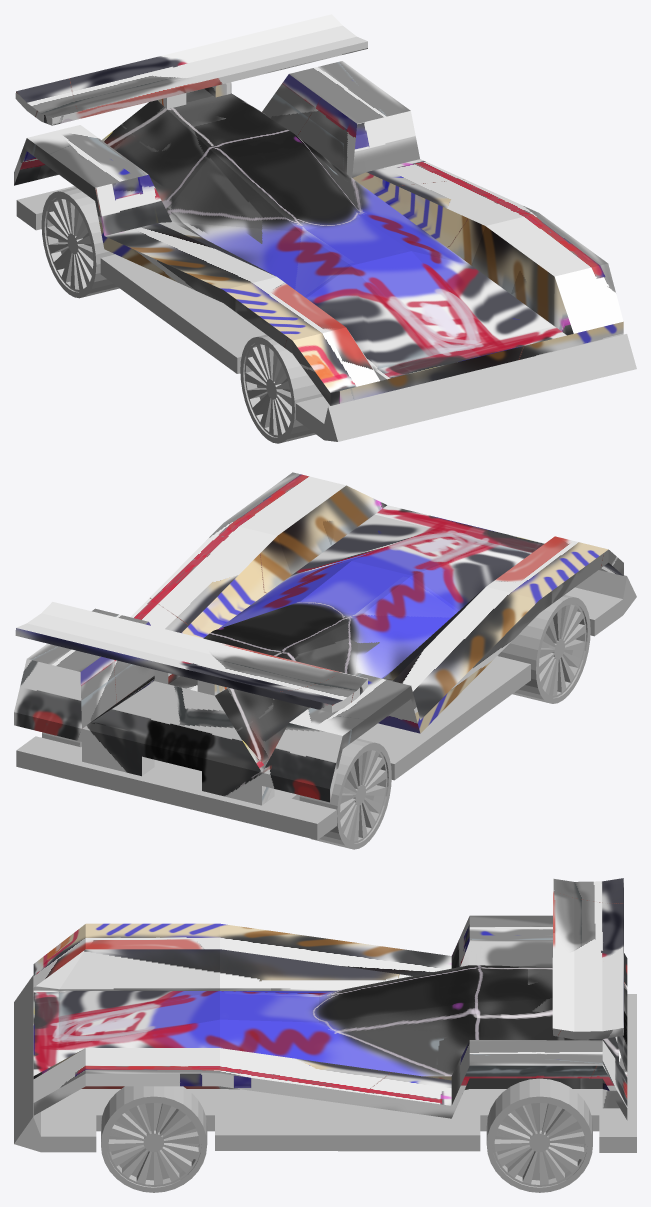
The model's file is 4WD_MiniCar_2.fbx.
3 views of the same model, one above another, from view 1: azimuth 30°, elevation 25°; view 2: azimuth 150°, elevation 25°; view 3: azimuth 270°, elevation 25° (orthographic). The views are drawn at different scales.
Parts seen in each view (by area): view 1: Body, Pan, FrontRight, BackRight; view 2: Body, Pan, FrontRight, BackRight; view 3: Body, Pan, BackLeft, FrontLeft.
Boxes of the visible parts, x1,y1,x2,y2 form: Body: [14, 14, 623, 405]; Pan: [16, 186, 636, 441]; FrontRight: [240, 334, 323, 443]; BackRight: [41, 187, 119, 298]; Body: [14, 472, 623, 805]; Pan: [16, 570, 636, 840]; FrontRight: [498, 595, 590, 703]; BackRight: [299, 738, 391, 849]; Body: [33, 878, 627, 1120]; Pan: [14, 975, 636, 1152]; BackLeft: [486, 1078, 592, 1192]; FrontLeft: [101, 1086, 207, 1192].
Bounding box in the file's own units: 100 × 52.76 × 176.
